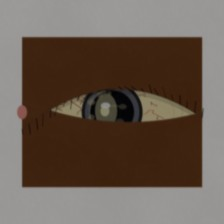corneal_ulcer: (78, 88, 134, 133)
